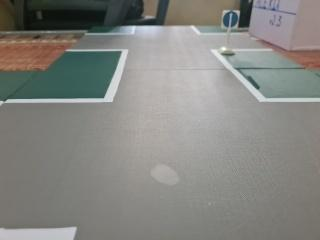straight: (218, 8, 241, 34)
